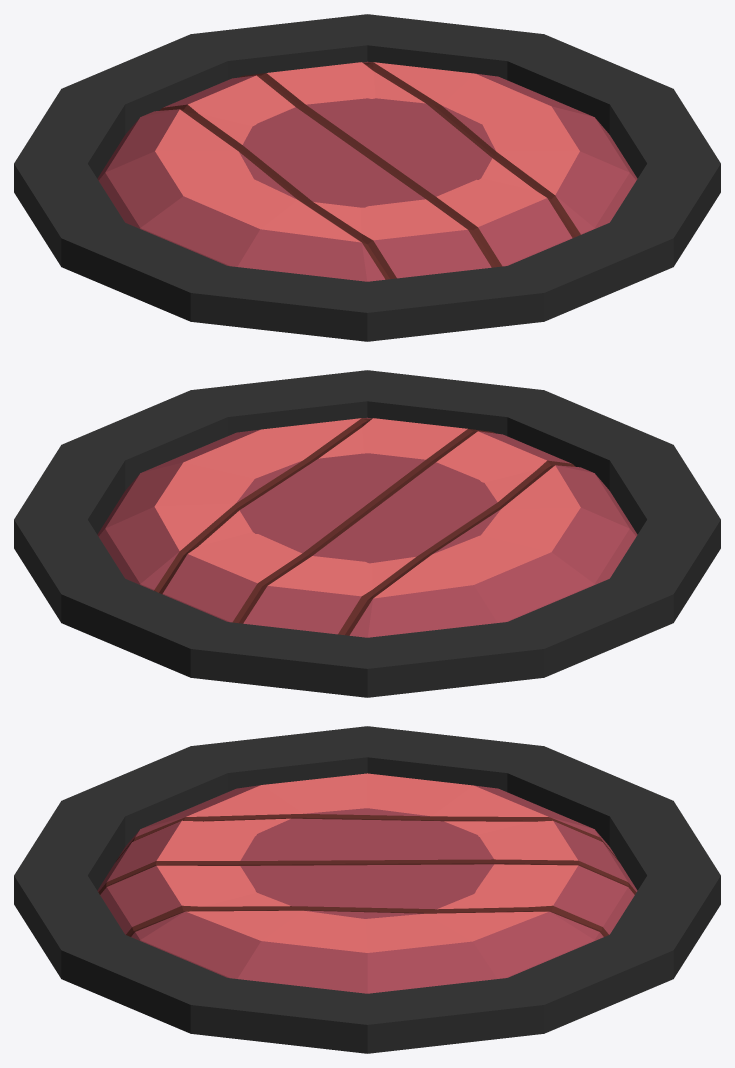
File: F_Shield_A_Red.fbx
3 renders of one model, top to bottom at view 1: azimuth 30°, elevation 25°; view 2: azimuth 150°, elevation 25°; view 3: azimuth 270°, elevation 25°, orthographic.
Parts seen in each view (by area): view 1: F_Shield_A_Red; view 2: F_Shield_A_Red; view 3: F_Shield_A_Red.
Boxes of the visible parts, x1,y1,x2,y2 form: F_Shield_A_Red: (14, 14, 720, 341); F_Shield_A_Red: (14, 370, 720, 697); F_Shield_A_Red: (14, 726, 720, 1053).
Bounding box in the file's own units: 75.7 × 7.63 × 75.7.
